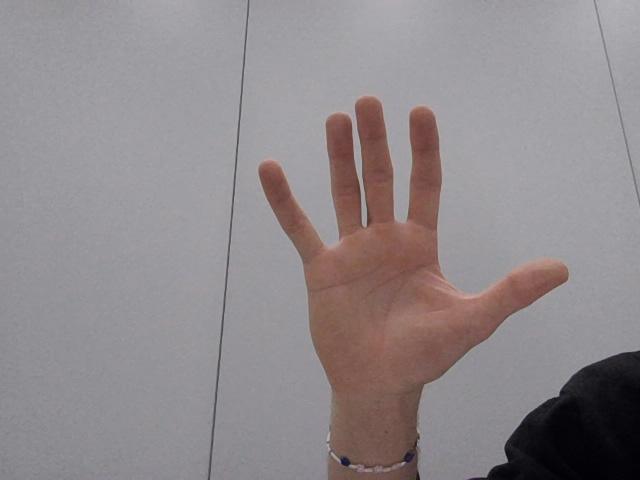nada: (235, 83, 578, 403)
